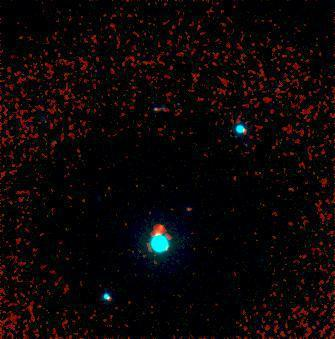star: (145, 214, 175, 244)
